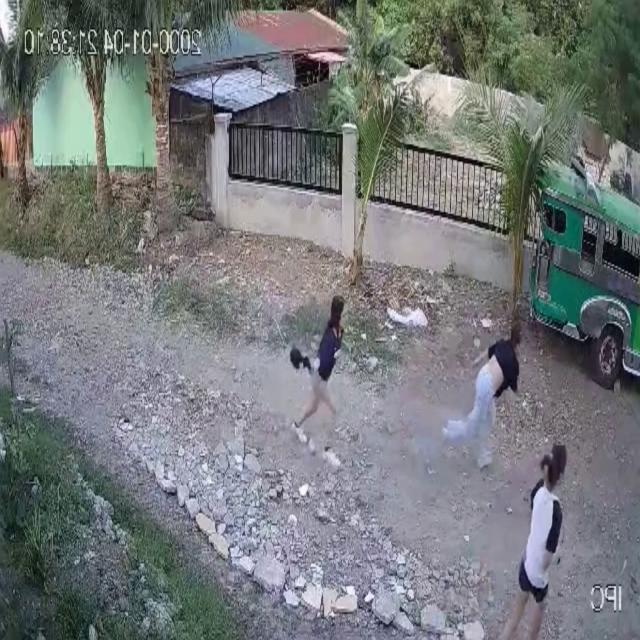running: (497, 444, 575, 640), (439, 314, 529, 480), (286, 295, 351, 475)
